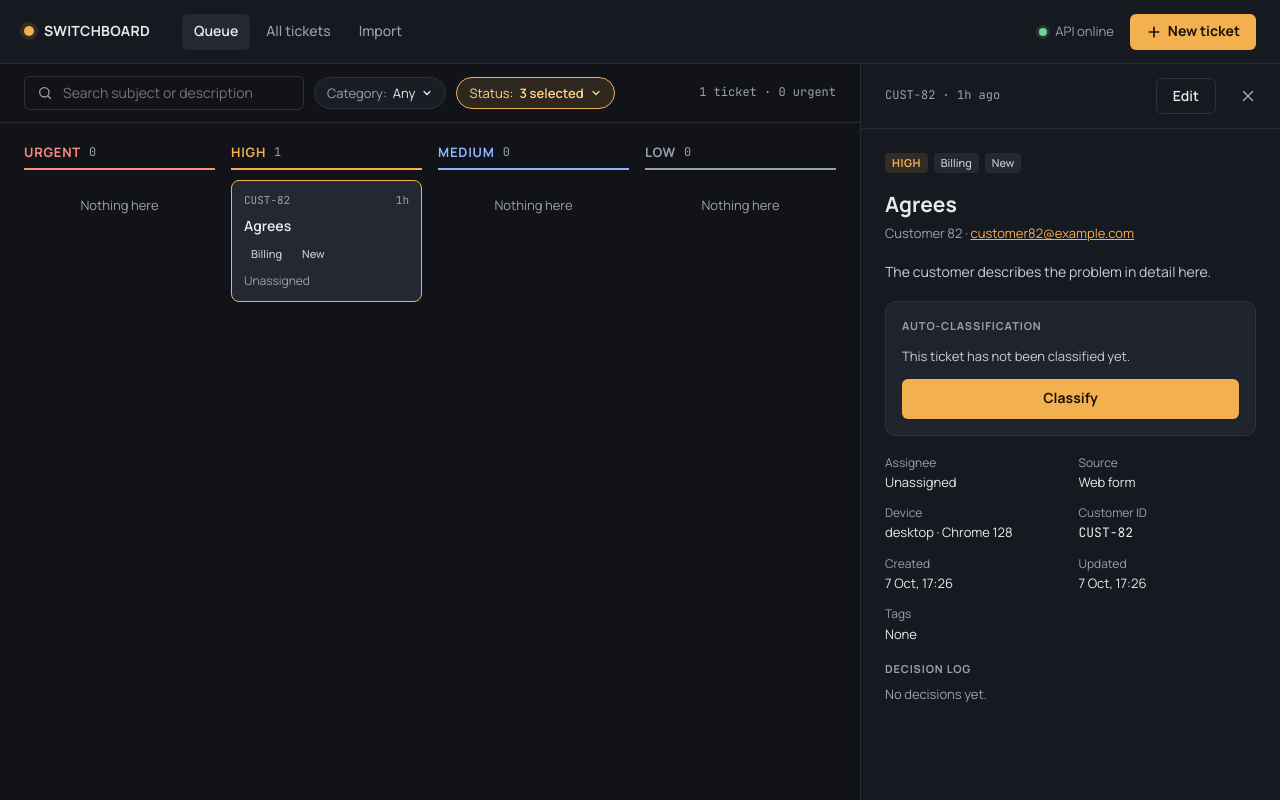
Test: Ticket panel › says so when the classifier agrees with a manual choice
Click the button "Classify": (1070, 398) [902,378,1239,418]
(page scrolled)
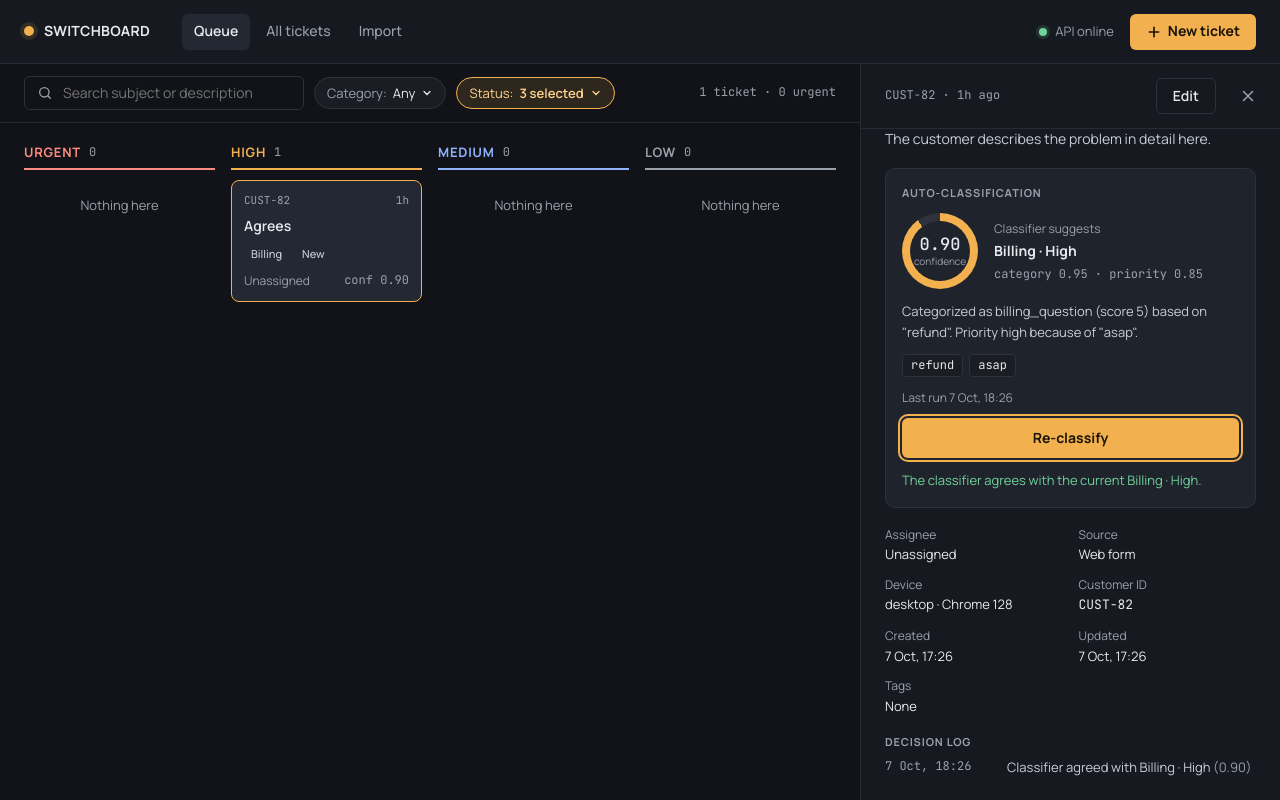
Expected: the text "The classifier agrees with the current Billing · High." is shown, [902,472,1202,490]
Expected: the text "Classifier agreed with Billing · High (0.90)" is shown, [1007,758,1256,776]
